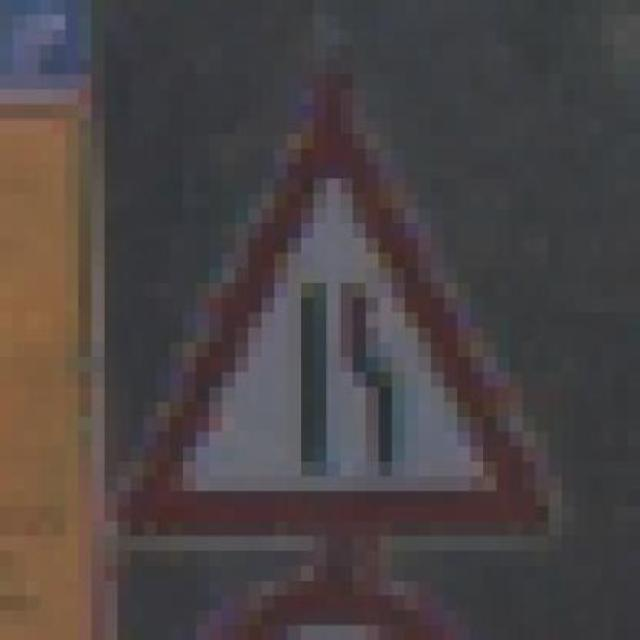-Road narrows on right: (79, 59, 562, 552)
